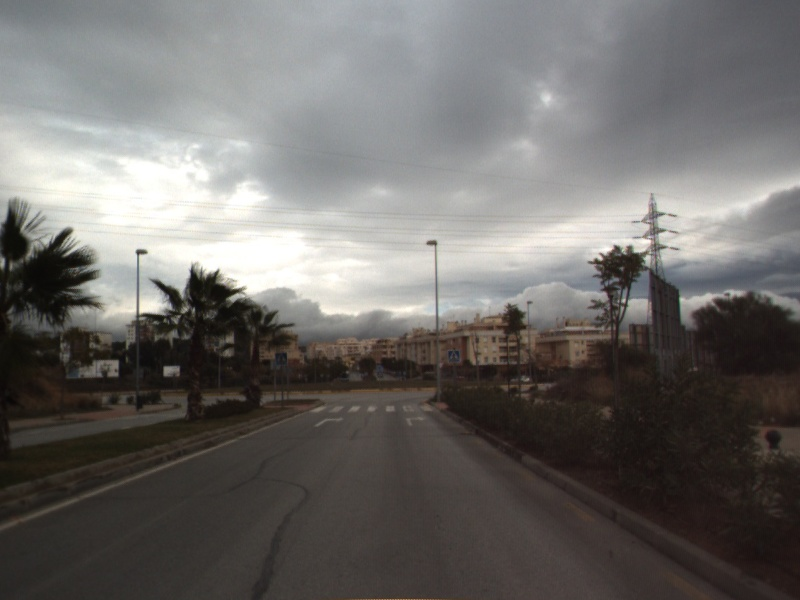RIGHT: (312, 415, 346, 429), (404, 414, 428, 428)
